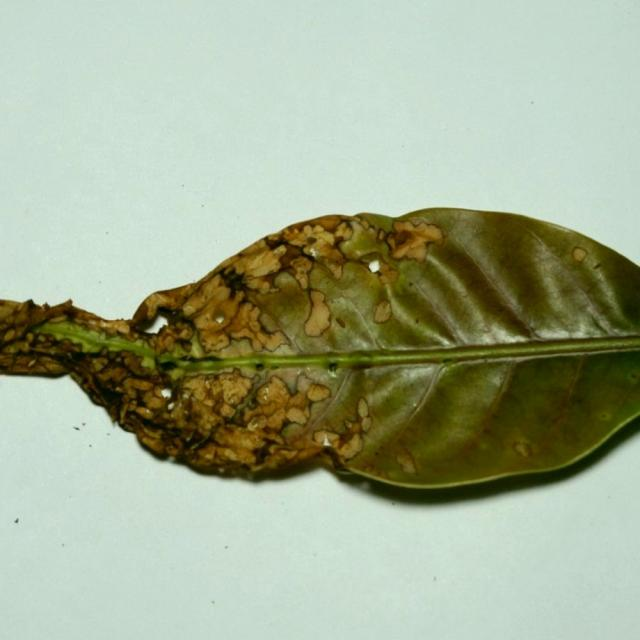Anthracnose: (6, 318, 70, 363), (386, 219, 446, 261), (301, 287, 338, 340), (184, 393, 224, 434), (181, 374, 219, 410), (209, 294, 243, 328), (36, 299, 78, 325), (135, 290, 172, 319), (195, 305, 231, 334), (223, 428, 264, 453), (217, 374, 251, 404), (260, 376, 291, 407), (247, 253, 282, 278), (137, 431, 172, 456), (333, 431, 364, 459), (288, 256, 314, 289), (199, 284, 230, 311), (354, 395, 373, 437), (311, 239, 344, 263), (199, 327, 231, 351), (370, 260, 399, 286), (308, 227, 337, 249), (18, 298, 42, 324), (264, 408, 290, 431), (155, 328, 178, 354), (396, 449, 418, 475), (257, 311, 281, 334), (125, 377, 157, 394), (265, 329, 292, 349), (306, 382, 332, 401), (373, 299, 392, 324), (287, 390, 309, 411), (245, 305, 263, 330), (105, 319, 132, 335), (181, 396, 197, 422), (285, 407, 308, 425), (144, 392, 167, 410), (312, 429, 335, 446), (335, 222, 353, 241), (248, 414, 269, 430), (118, 402, 133, 424), (135, 406, 157, 420), (309, 289, 326, 307), (255, 279, 273, 295), (571, 247, 588, 263), (152, 386, 168, 401), (519, 442, 534, 457), (58, 299, 74, 313), (332, 263, 345, 280), (251, 337, 265, 352), (368, 259, 382, 274), (257, 388, 271, 403), (343, 418, 357, 431), (272, 245, 287, 257), (15, 341, 31, 352), (3, 329, 16, 341), (183, 304, 196, 315), (377, 228, 386, 241), (308, 247, 318, 258), (306, 235, 318, 244), (42, 302, 51, 312), (26, 333, 35, 342), (182, 391, 190, 401), (26, 360, 35, 368)
Mango: (0, 208, 639, 495)
